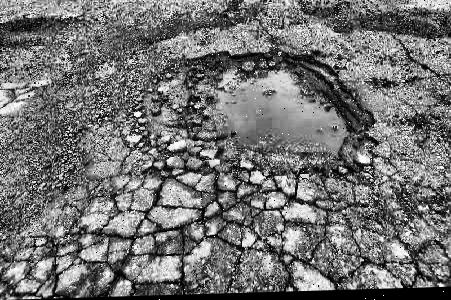pothole: (131, 44, 379, 190)
